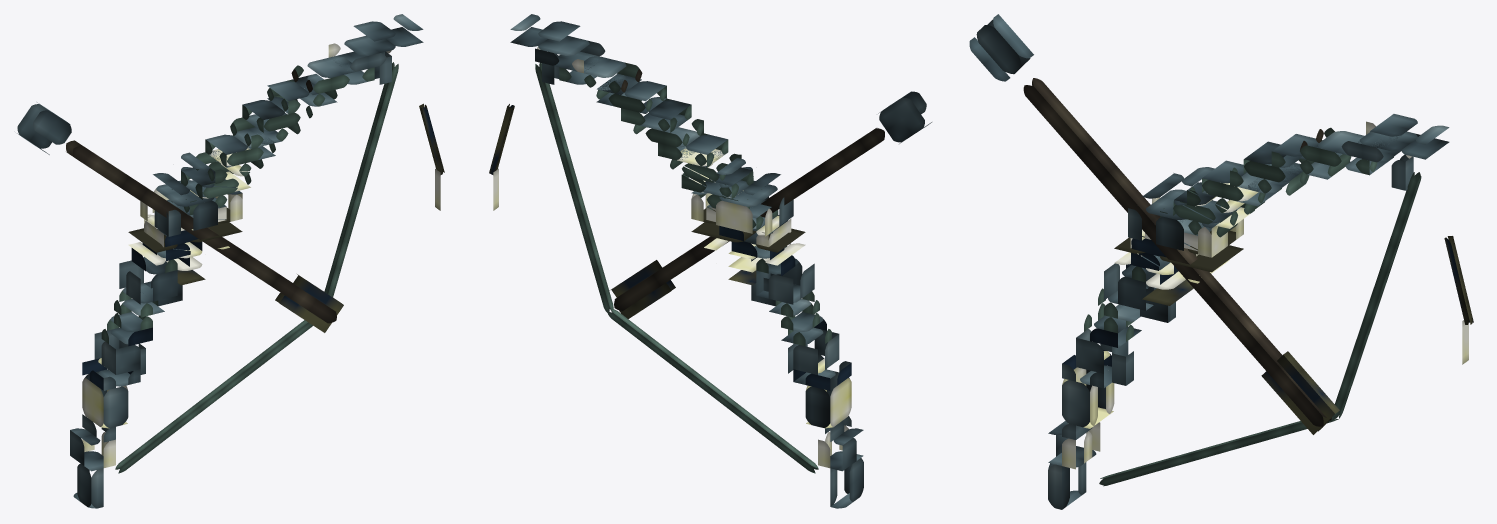
File: deepline_bow_pulling_2.obj
The picture shows the model from 3 angles, left to right: view 1: azimuth 30°, elevation 25°; view 2: azimuth 150°, elevation 25°; view 3: azimuth 330°, elevation 25°; orthographic projection. The views are drawn at different scales.
Visible parts, largest first — view 1: lit, fire; view 2: lit, fire; view 3: lit, fire.
Part boxes in pixels (box(x1,y1,x2,y2)): lit: box(17, 14, 444, 508); fire: box(275, 274, 343, 332); lit: box(489, 14, 931, 508); fire: box(609, 260, 675, 318); lit: box(969, 14, 1473, 509); fire: box(1261, 351, 1339, 434).
Bounding box in the file's own units: 1.12 × 1.01 × 0.125.
